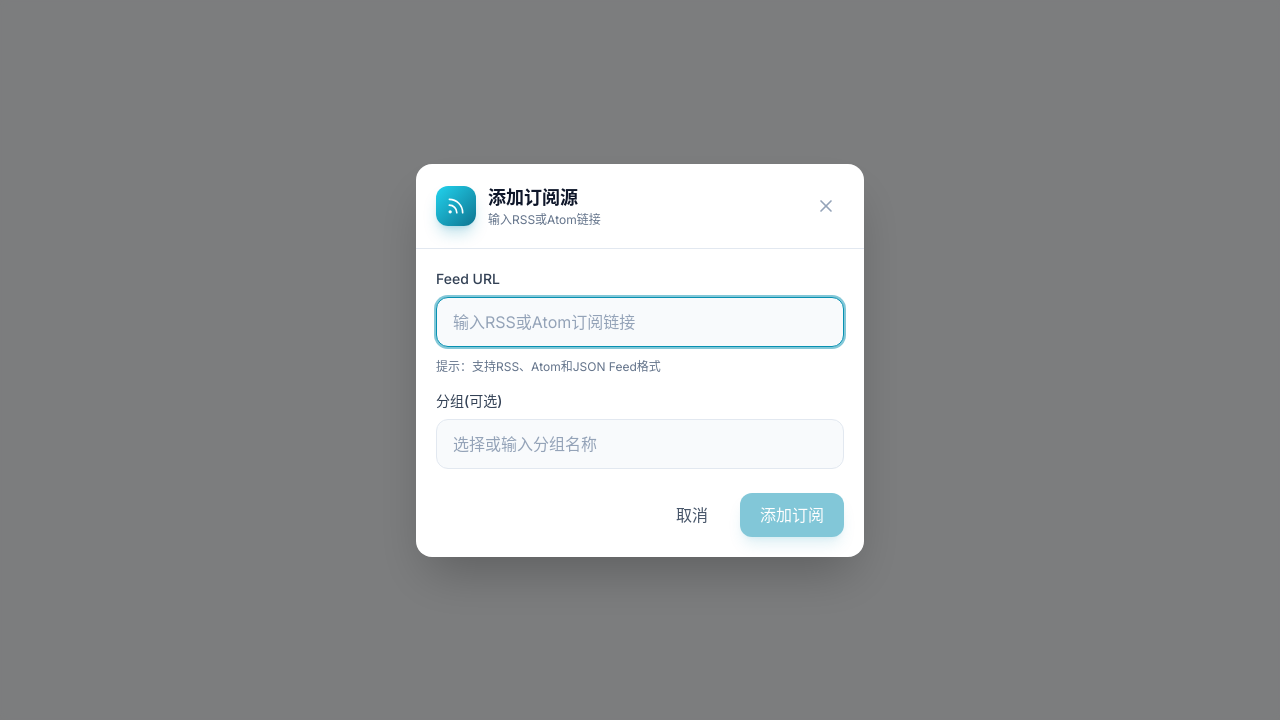
it: AddFeedModal › should display HTTP error message verbatim (No Masking)
In the field labelled "Feed URL": (640, 322) [436,296,844,346], type "https://example.com/feed.xml"
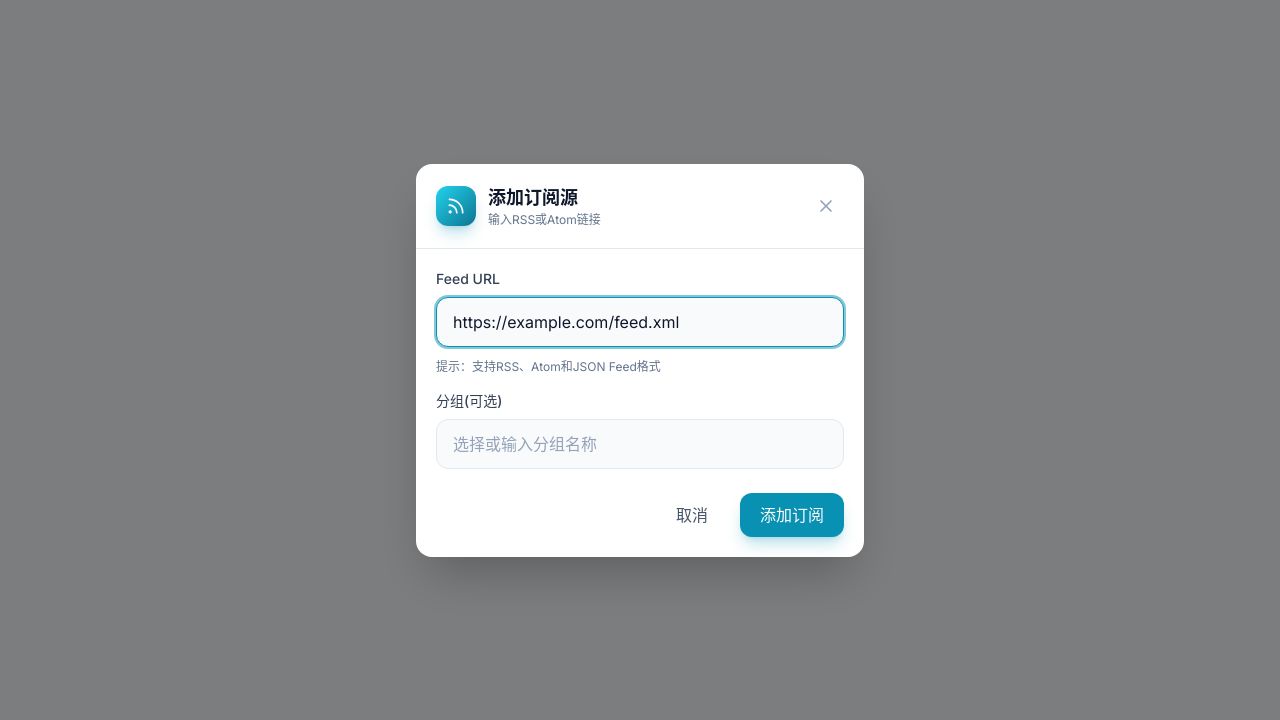
Click the button "添加订阅": (792, 514) [740,492,844,536]
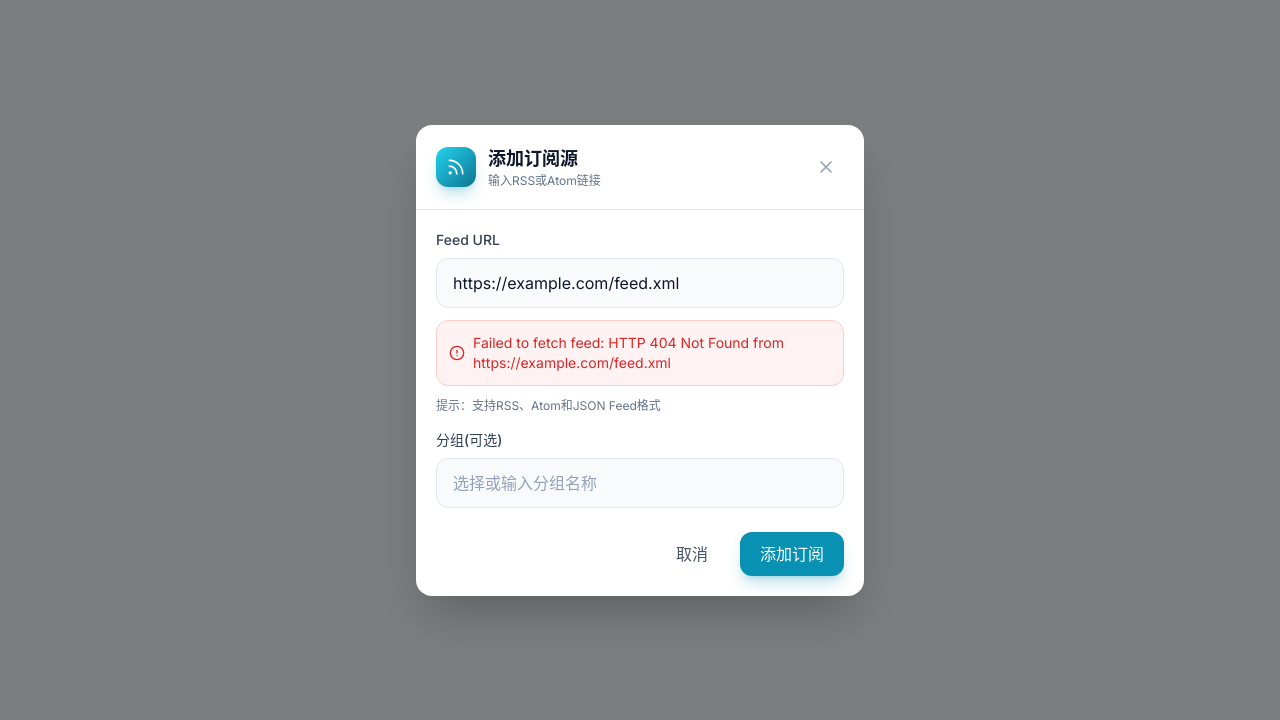
Expected: the text "Failed to fetch feed: HTTP 404 Not Found from https://example.com/feed.xml" is shown, [473,332,831,372]
